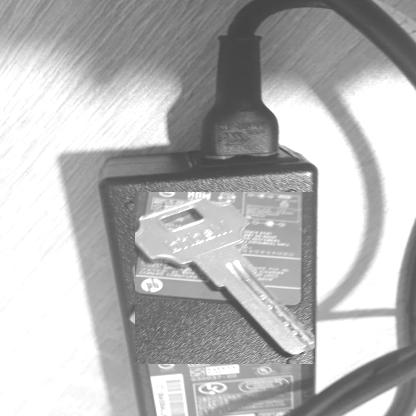key: (134, 192, 314, 364)
